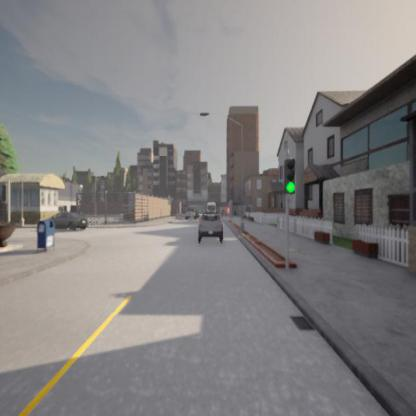traffic_light_green: (284, 160, 296, 192)
vehicle: (196, 213, 224, 240), (48, 212, 88, 230)
